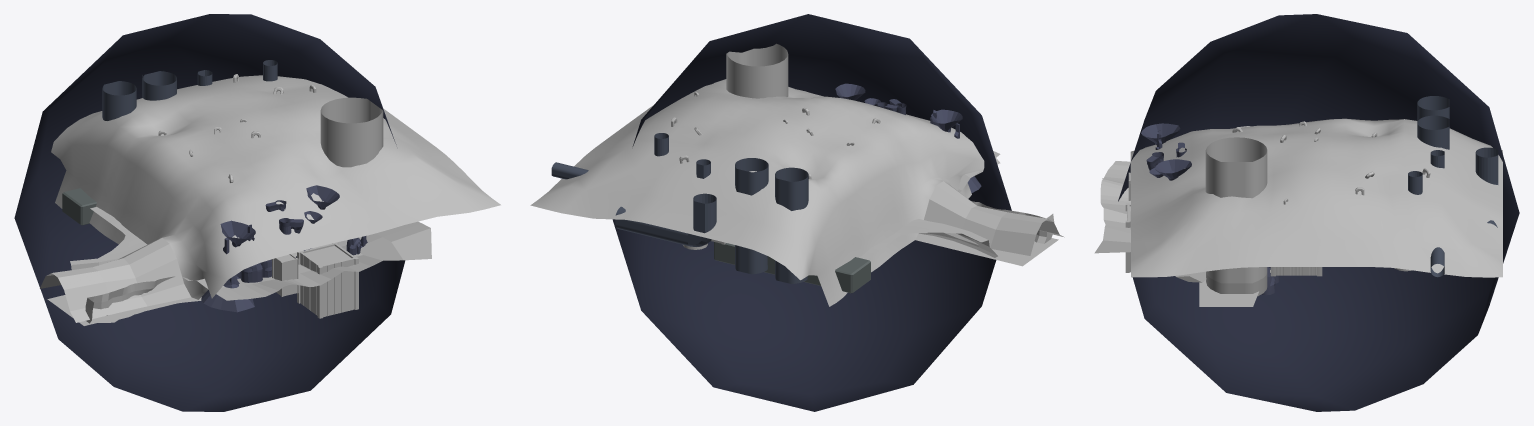
The model's file is Arena1.fbx.
3 views of the same model, side by side, from view 1: azimuth 30°, elevation 25°; view 2: azimuth 150°, elevation 25°; view 3: azimuth 270°, elevation 25° (orthographic).
Parts seen in each view (by area): view 1: cieling, skybox, oppositeBank, lavaPipe, platform4, bigPipe1, ground, pipePlatform1, bigPipe2, stalagmite18, platform3, lava (+4 smaller); view 2: skybox, cieling, lavaPipe, bgPipe2, bigPipe2, bigPipe1, pipePlatform1, ground, lava, bgpipe1, oppositeBank; view 3: skybox, cieling, lavaPipe, oppositeBank, bigPipe2, bgpipe1, lava, bgPipe2, bigPipe1, stalagmite24, stalagmite23, platform5.
Boxes of the visible parts, x1=… form: cieling: x1=40, y1=75, x2=500, y2=322; skybox: x1=14, y1=14, x2=405, y2=411; oppositeBank: x1=85, y1=221, x2=431, y2=323; lavaPipe: x1=314, y1=97, x2=383, y2=247; platform4: x1=297, y1=242, x2=358, y2=318; bigPipe1: x1=102, y1=81, x2=136, y2=120; ground: x1=70, y1=207, x2=147, y2=269; pipePlatform1: x1=62, y1=188, x2=96, y2=225; bigPipe2: x1=143, y1=71, x2=176, y2=100; stalagmite18: x1=201, y1=237, x2=254, y2=312; platform3: x1=272, y1=254, x2=298, y2=296; lava: x1=47, y1=252, x2=296, y2=325; skybox: x1=612, y1=14, x2=1011, y2=411; cieling: x1=530, y1=79, x2=1064, y2=306; lavaPipe: x1=726, y1=43, x2=788, y2=98; bgPipe2: x1=615, y1=193, x2=716, y2=246; bigPipe2: x1=735, y1=158, x2=768, y2=274; bigPipe1: x1=775, y1=167, x2=808, y2=283; pipePlatform1: x1=714, y1=242, x2=870, y2=293; ground: x1=860, y1=219, x2=997, y2=259; lava: x1=915, y1=233, x2=1058, y2=266; bgpipe1: x1=551, y1=133, x2=710, y2=179; oppositeBank: x1=958, y1=151, x2=1054, y2=243; skybox: x1=1118, y1=14, x2=1519, y2=411; cieling: x1=1130, y1=118, x2=1502, y2=277; lavaPipe: x1=1205, y1=137, x2=1267, y2=296; oppositeBank: x1=1094, y1=161, x2=1206, y2=282; bigPipe2: x1=1417, y1=115, x2=1449, y2=149; bgpipe1: x1=1408, y1=150, x2=1444, y2=277; lava: x1=1199, y1=270, x2=1270, y2=306; bgPipe2: x1=1475, y1=147, x2=1498, y2=227; bigPipe1: x1=1417, y1=96, x2=1449, y2=121; stalagmite24: x1=1141, y1=123, x2=1180, y2=145; stalagmite23: x1=1154, y1=159, x2=1191, y2=180; platform5: x1=1270, y1=267, x2=1322, y2=276.
Bounding box in the file's own units: 8264 × 7281 × 7638.
